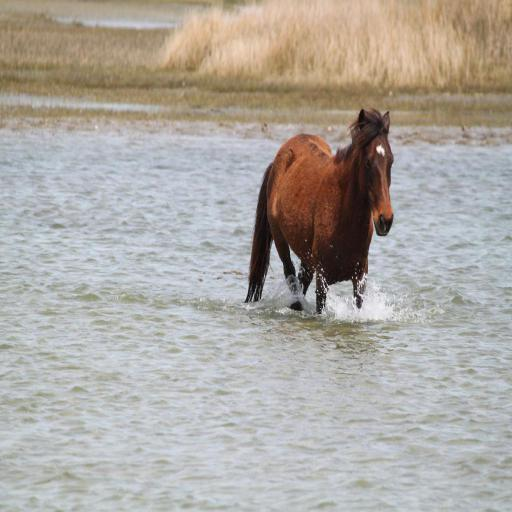Horse: (244, 105, 394, 314)
